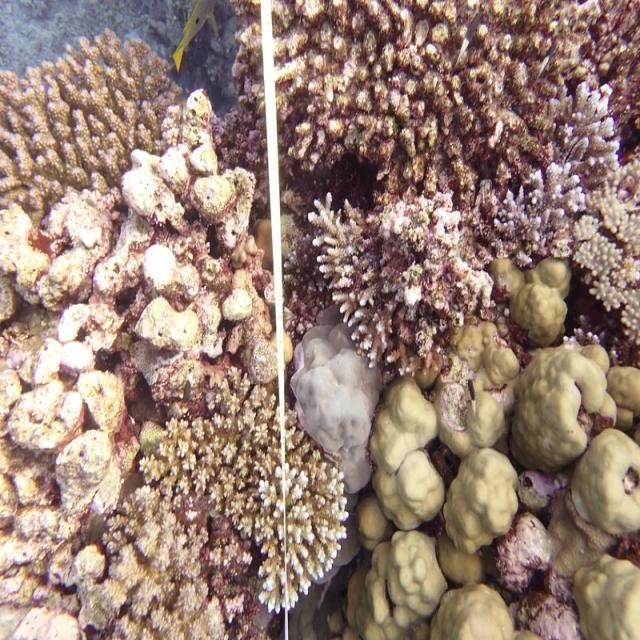Healthy Coral: (353, 336, 639, 640)
